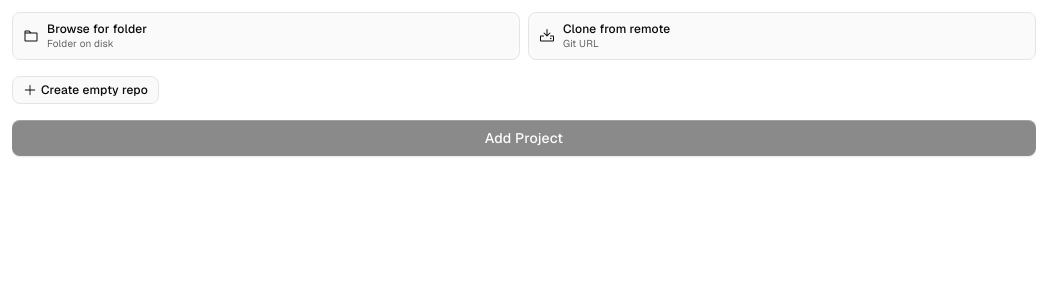
ProjectCreationForm git identity › does not ask for a folder that is not a git repository
The width and height of the screenshot is (1048, 285).
Click the button "Browse for folder Folder on disk" at (97, 29), box [12, 12, 520, 60]
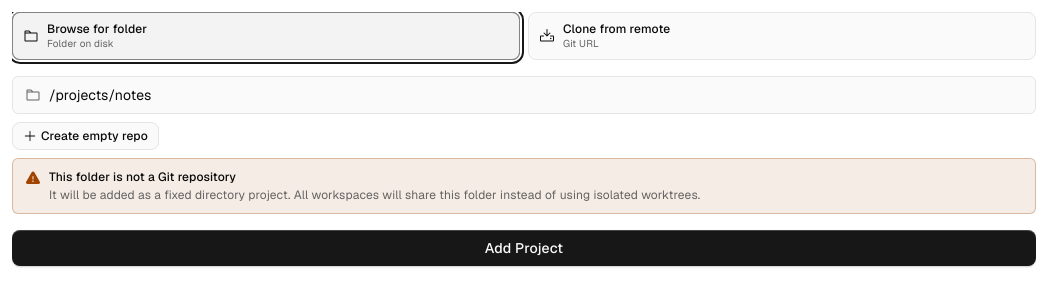
Result: the text "This folder is not a Git repository" is shown at [49, 169, 236, 185]
Result: the button "Add Project" is enabled at [12, 230, 1036, 266]
